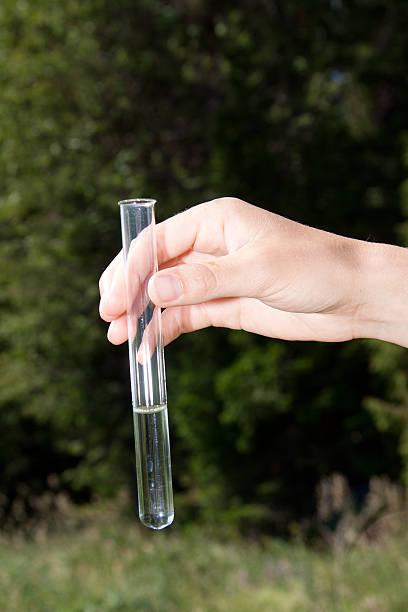Test tube: (107, 191, 186, 532)
